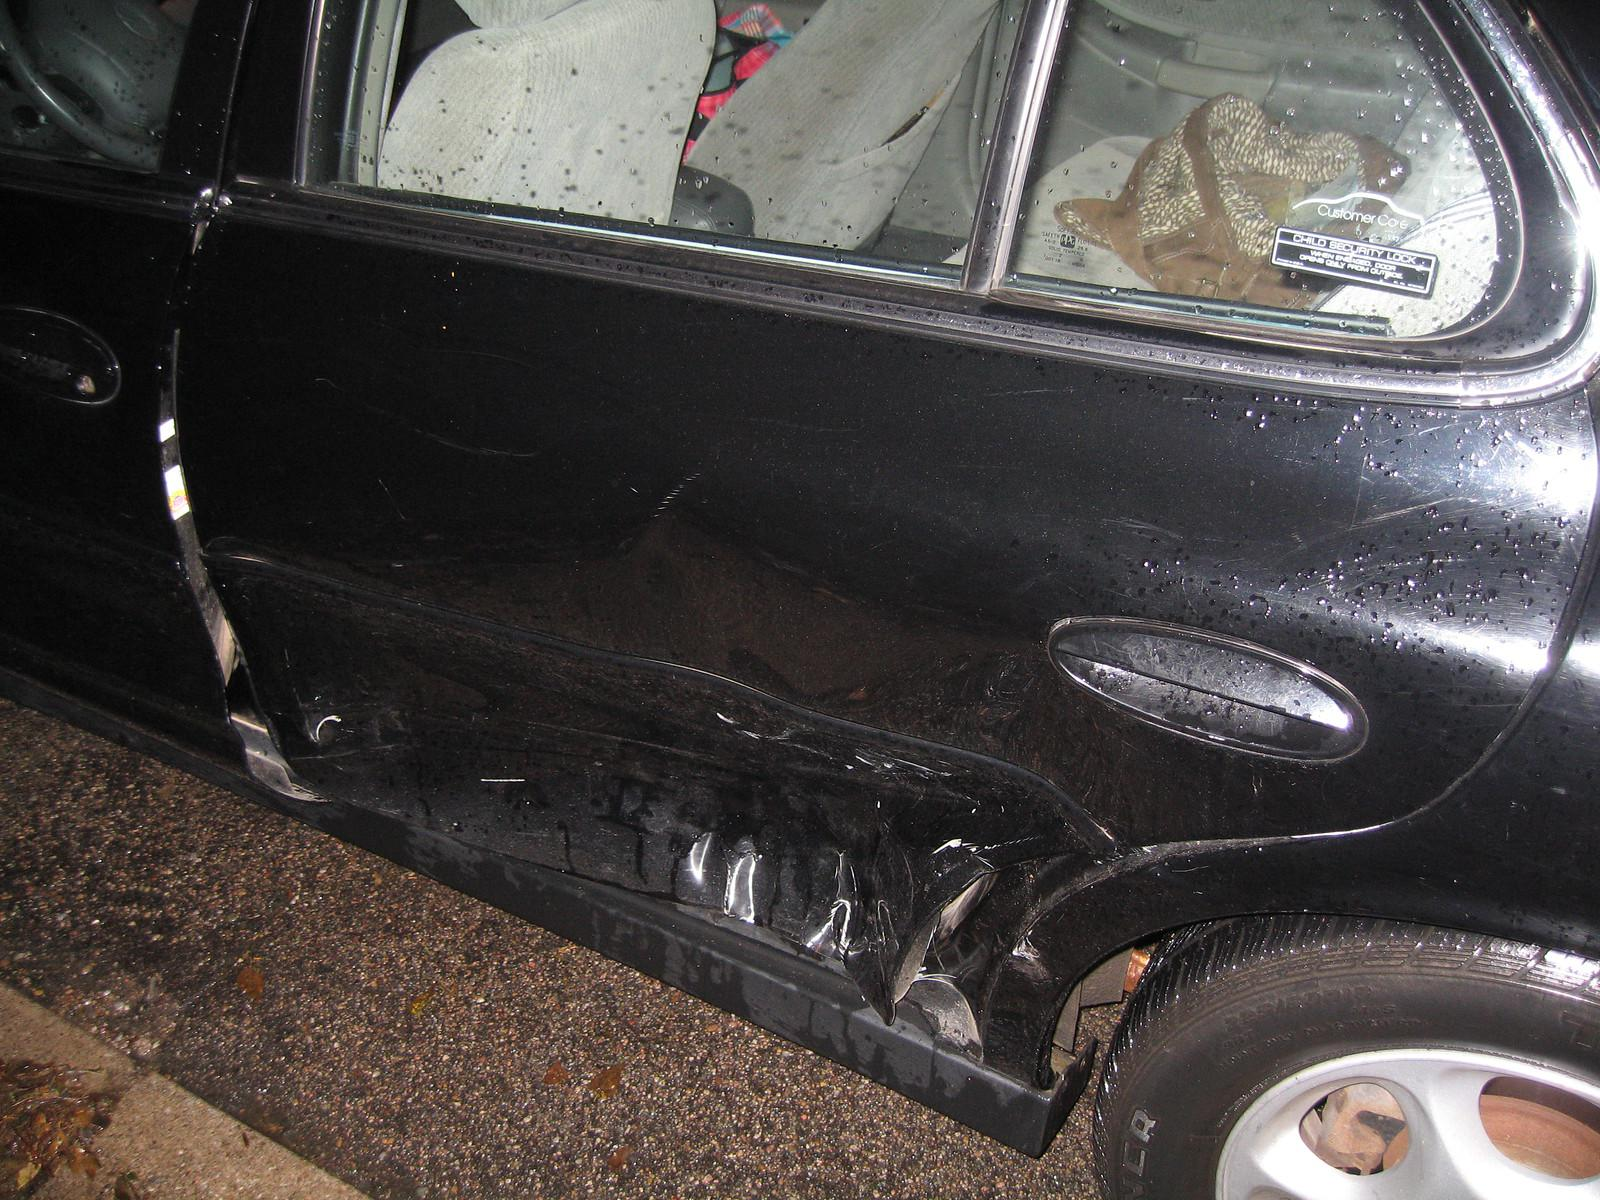doorouter-dent: (321, 323, 1170, 979)
